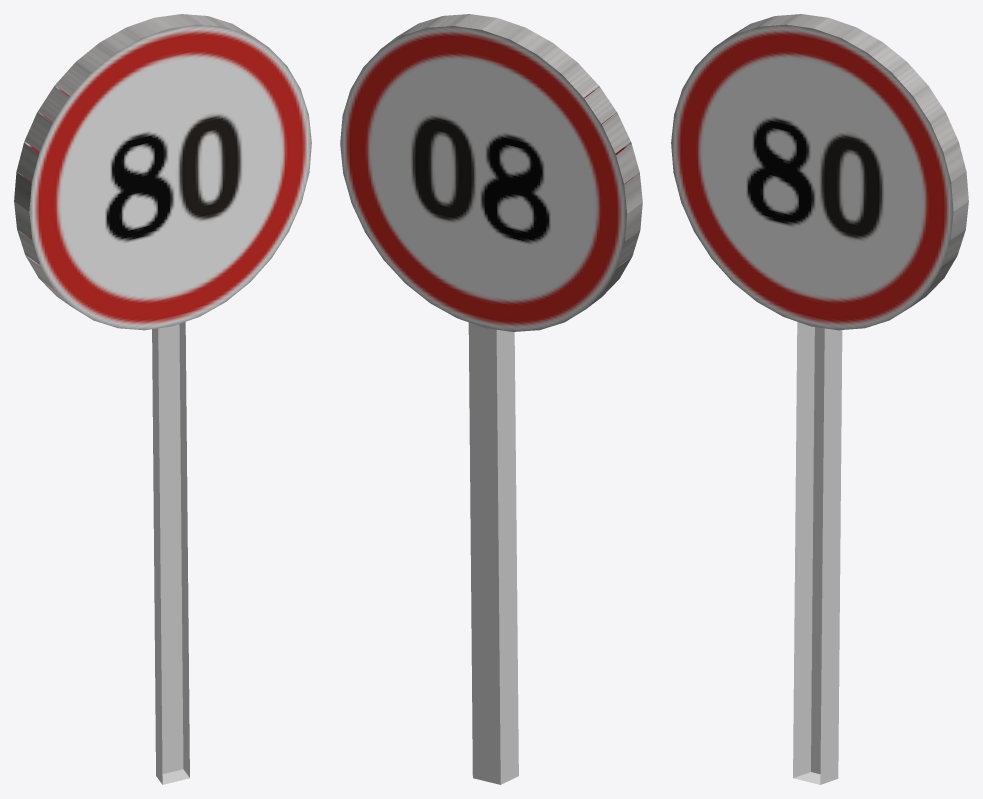
The picture shows the model from 3 angles, left to right: view 1: azimuth 30°, elevation 25°; view 2: azimuth 150°, elevation 25°; view 3: azimuth 330°, elevation 25°; orthographic projection.
Visible parts, largest first — view 1: Cycle, Xui; view 2: Cycle, Xui; view 3: Cycle, Xui.
Part boxes in pixels (box(x1,y1,x2,y2)): Cycle: box(14, 14, 311, 330); Xui: box(152, 322, 189, 784); Cycle: box(340, 14, 642, 331); Xui: box(468, 322, 518, 784); Cycle: box(671, 14, 968, 330); Xui: box(793, 322, 842, 784).
Bounding box in the file's own units: 0.2554 × 0.0352 × 0.6471.
1 material, 1 textured.
